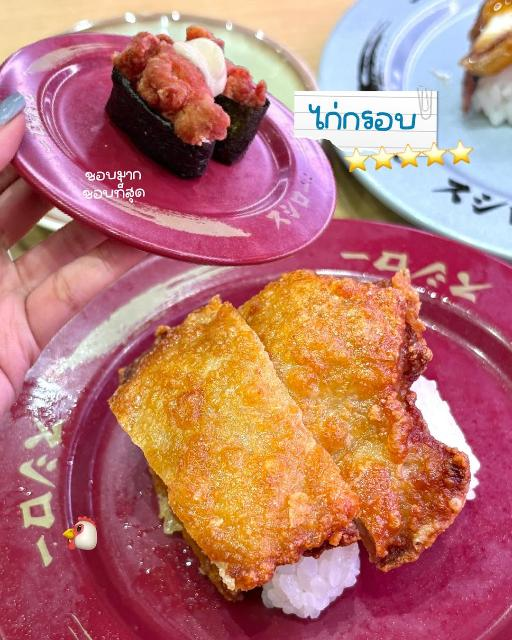janred: (24, 266, 492, 629), (0, 22, 316, 258)
janwhite: (303, 22, 512, 264)
